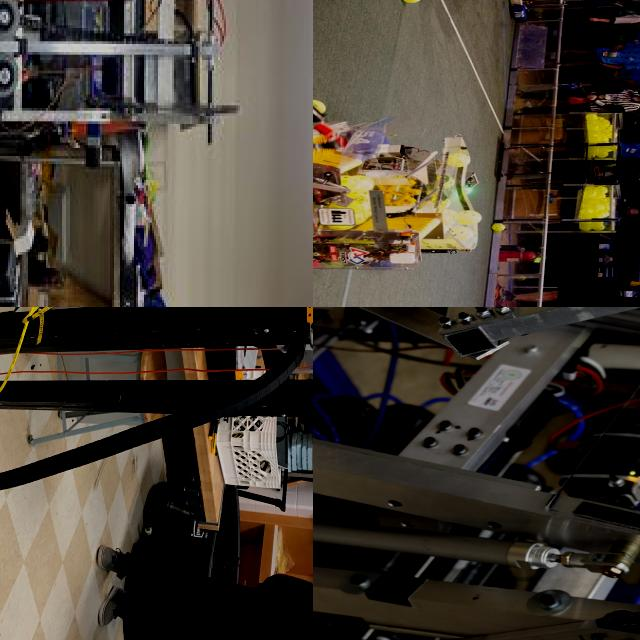FRC-Robots: (313, 307, 640, 640), (0, 307, 313, 640), (0, 0, 245, 305), (313, 123, 486, 290), (313, 1, 372, 218)
